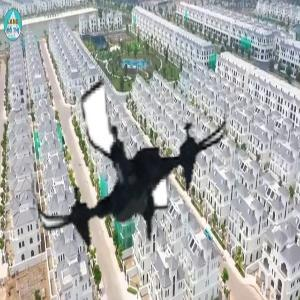drone: (30, 68, 232, 270)
